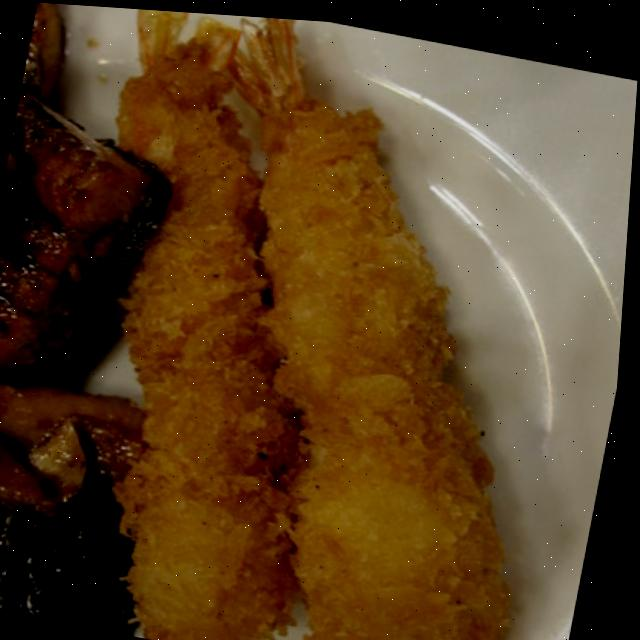炸货点心: (9, 2, 615, 640)
熟制海鲜: (9, 2, 615, 640)
